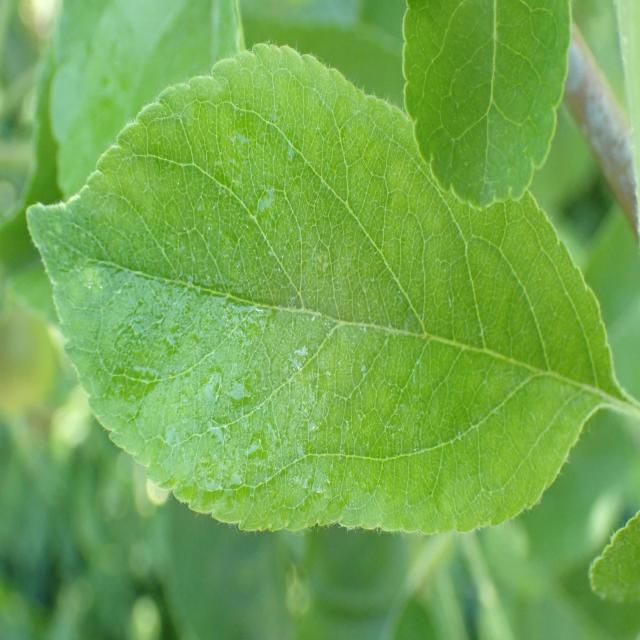healthy: (26, 43, 618, 537), (42, 0, 244, 202), (401, 0, 571, 210)
